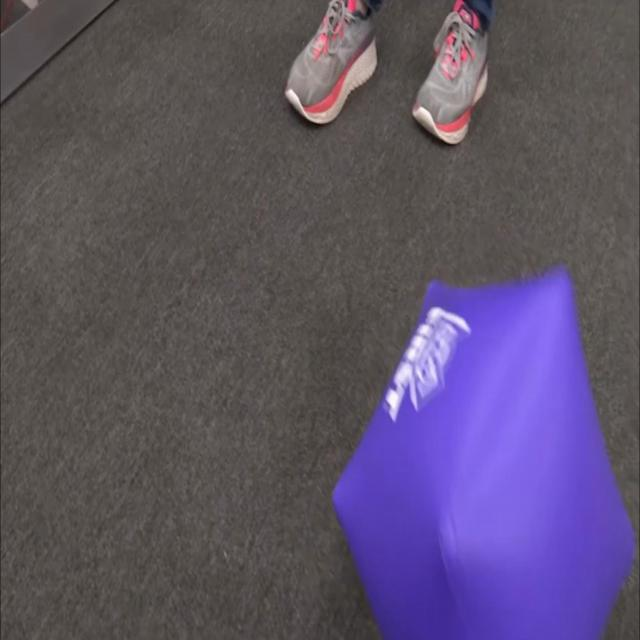frc_cube: (330, 267, 628, 640)
